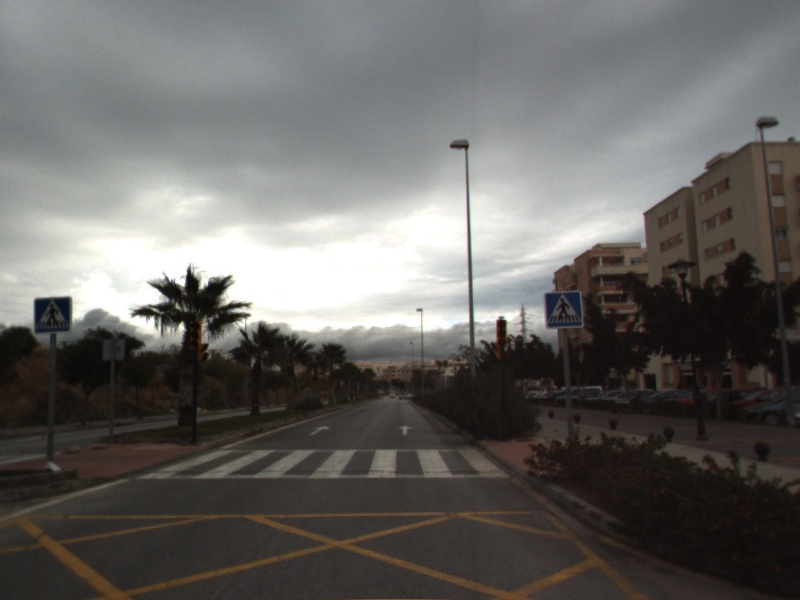STRAIGHT: (308, 423, 333, 437), (395, 422, 416, 437)
